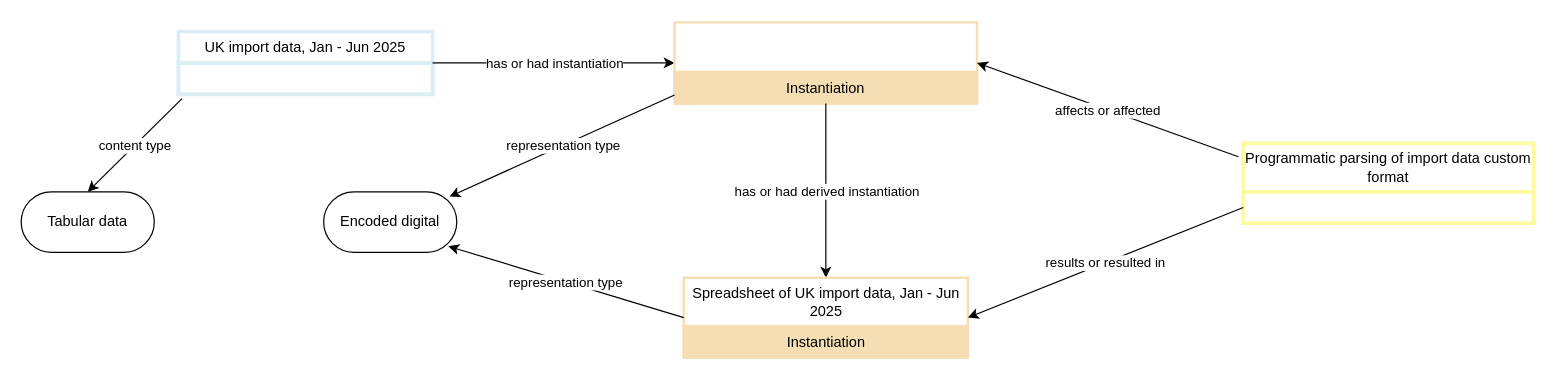
Image size: 1556x381. Some labels were removed from this diagram. Here are the shapes that lost their labels. From the top down, the box of each, then its label:
(176, 60, 434, 96): Record
(673, 21, 978, 104): Text file in custom format of UK import data, Jan - Jun 2025
(1241, 189, 1535, 224): Activity
